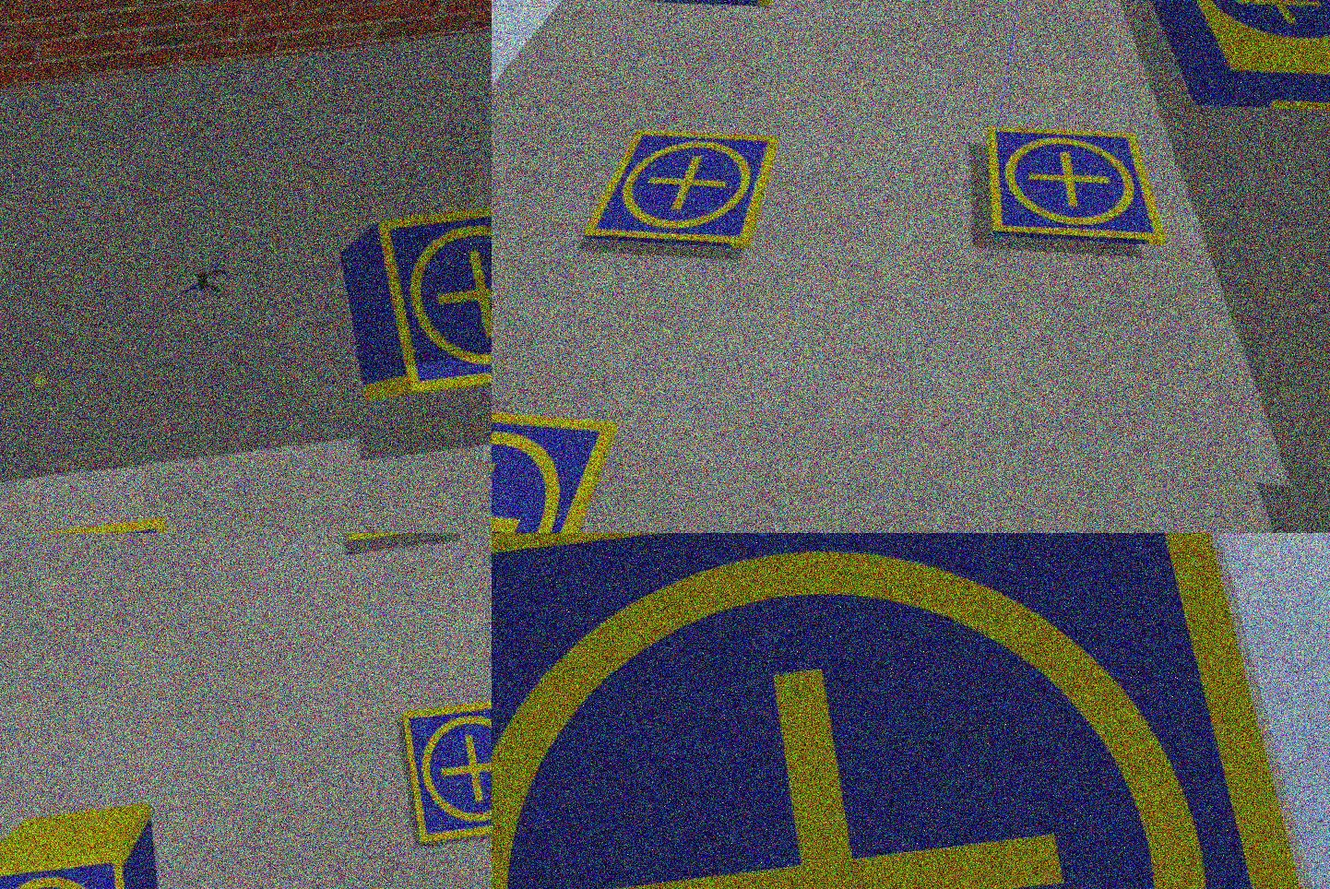large_base: (1126, 1, 1330, 126)
small_base: (493, 534, 1330, 889), (577, 117, 781, 256), (983, 121, 1170, 253), (378, 199, 493, 398), (493, 398, 622, 534), (401, 697, 493, 849), (1, 849, 137, 889)
